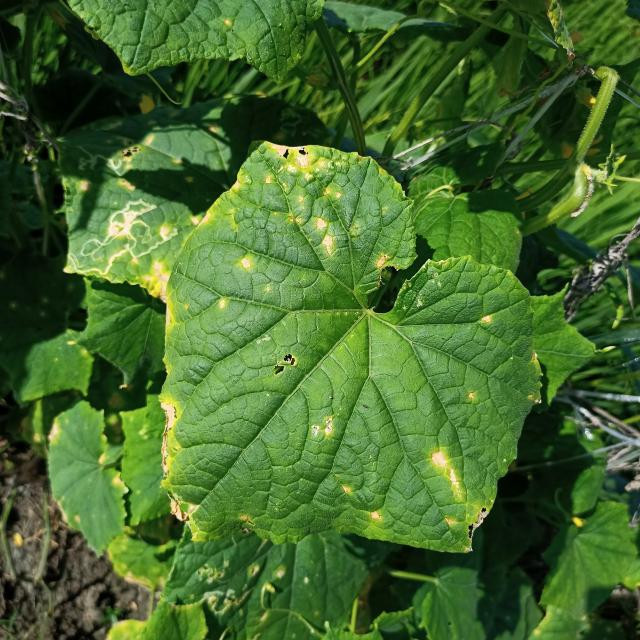disease_cucumber: (261, 144, 362, 258), (438, 448, 484, 528), (137, 262, 182, 338), (151, 398, 183, 481), (309, 414, 336, 439), (482, 311, 492, 328), (242, 256, 252, 272), (342, 485, 353, 496), (370, 510, 380, 522), (219, 297, 227, 310)
